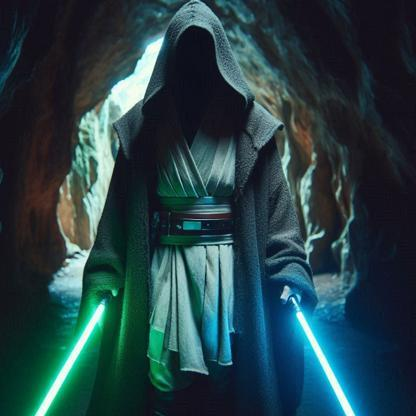lightsaber: (20, 280, 126, 415), (278, 283, 366, 416)
